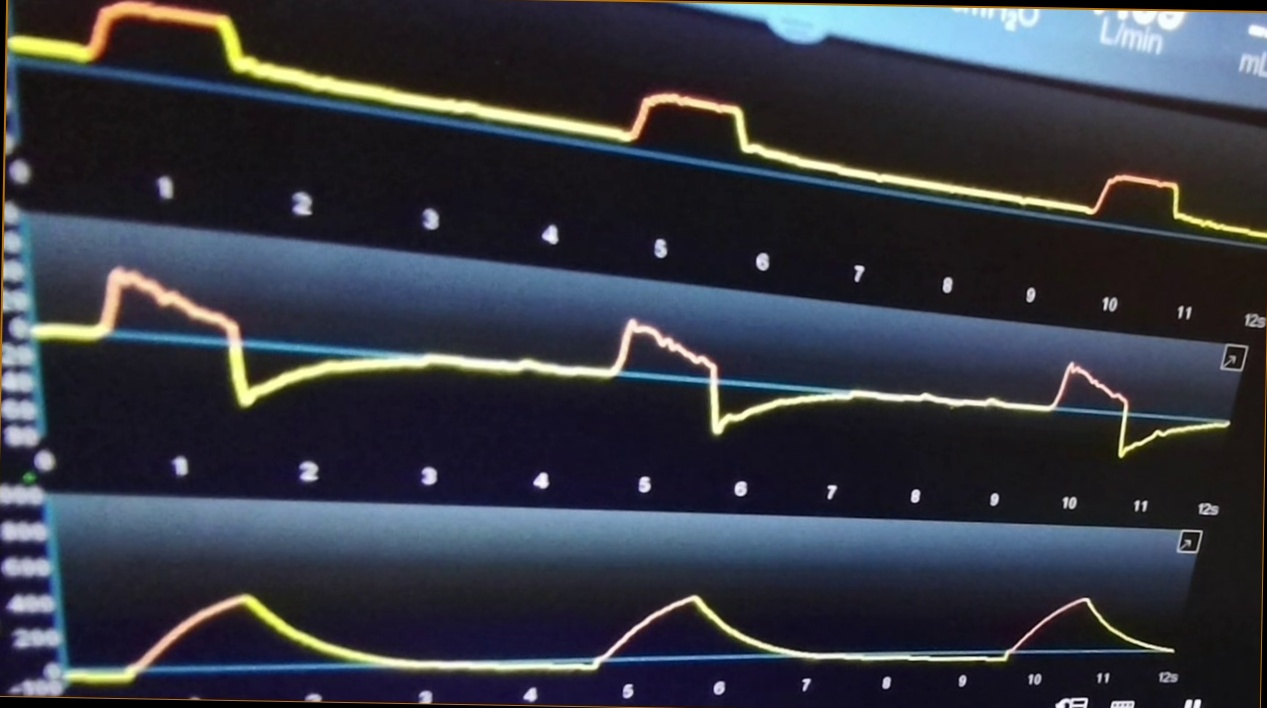Accumulation Flow: (45, 268, 1230, 457)
Volume: (73, 561, 1175, 686)
